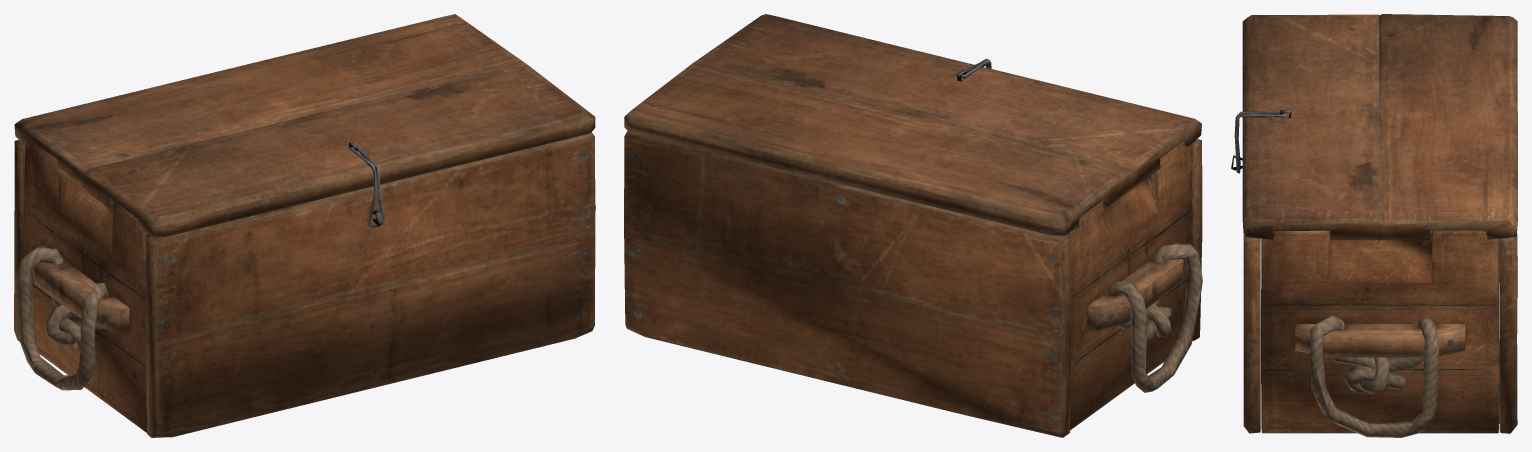
File: wooden_crate.fbx
The picture shows the model from 3 angles, left to right: view 1: azimuth 30°, elevation 25°; view 2: azimuth 150°, elevation 25°; view 3: azimuth 270°, elevation 25°; orthographic projection. The views are drawn at different scales.
Visible parts, largest first — view 1: wooden_crate_01_lid; view 2: wooden_crate_01_lid; view 3: wooden_crate_01_lid.
Boxes of the visible parts, x1,y1,x2,y2 form: wooden_crate_01_lid: (14, 14, 595, 437); wooden_crate_01_lid: (624, 14, 1202, 437); wooden_crate_01_lid: (1231, 14, 1517, 437).
Bounding box in the file's own units: 82.58 × 34.66 × 40.74.
